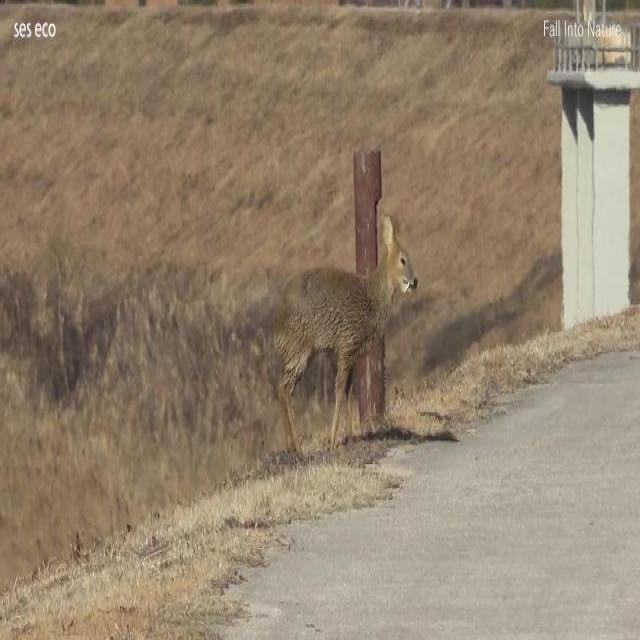deer: (274, 210, 420, 450)
